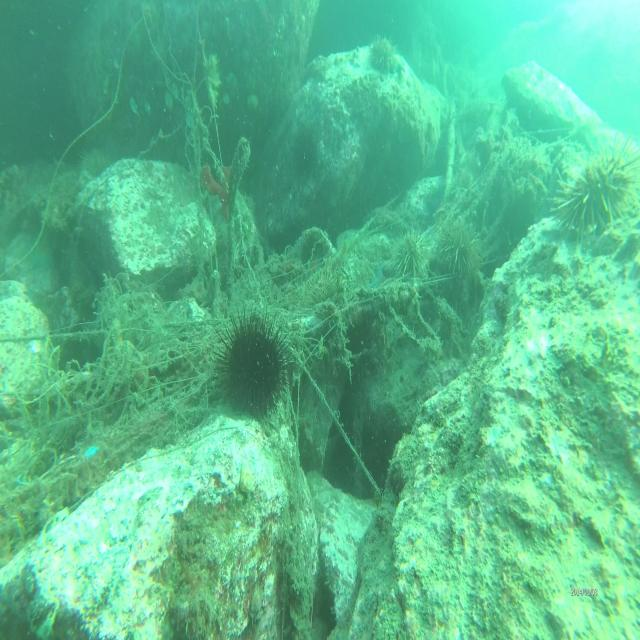echinus: (219, 314, 289, 420), (561, 144, 639, 239), (442, 223, 479, 280), (400, 229, 430, 281), (370, 37, 399, 76)
